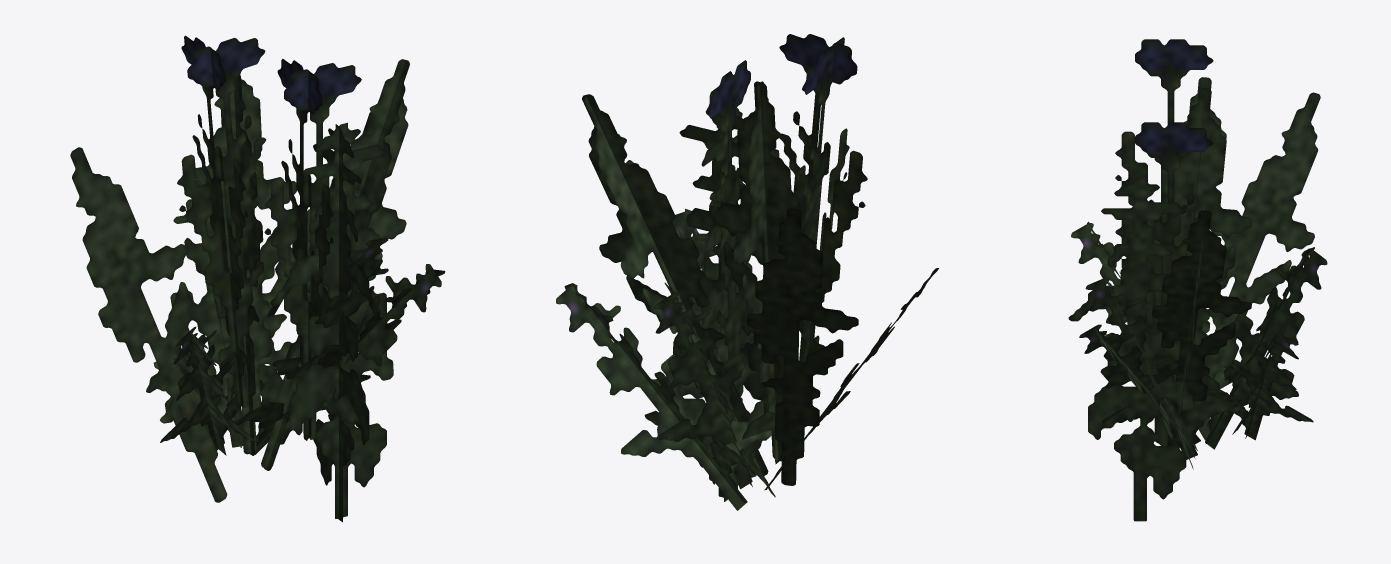
The model's file is SM_EC_Plant_Bush_14.fbx.
The picture shows the model from 3 angles, left to right: view 1: azimuth 30°, elevation 25°; view 2: azimuth 150°, elevation 25°; view 3: azimuth 270°, elevation 25°; orthographic projection. The views are drawn at different scales.
Visible parts, largest first — view 1: SM_EC_Plant_Bush_14; view 2: SM_EC_Plant_Bush_14; view 3: SM_EC_Plant_Bush_14.
Part boxes in pixels (x1,y1,x2,y2): SM_EC_Plant_Bush_14: [70, 35, 445, 522]; SM_EC_Plant_Bush_14: [556, 34, 938, 510]; SM_EC_Plant_Bush_14: [1068, 39, 1327, 521].
Size of the model in its own units: 1.04 by 0.8321 by 1.17.
